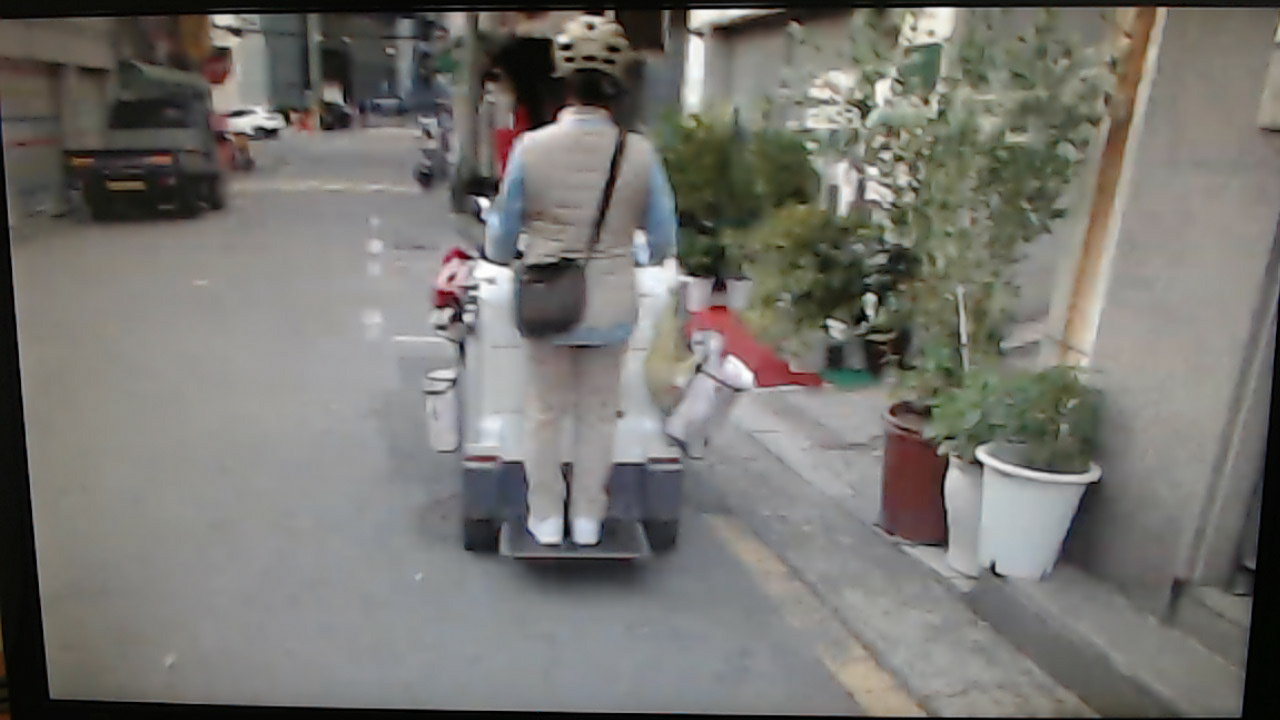Yakurut: (483, 15, 693, 563)
